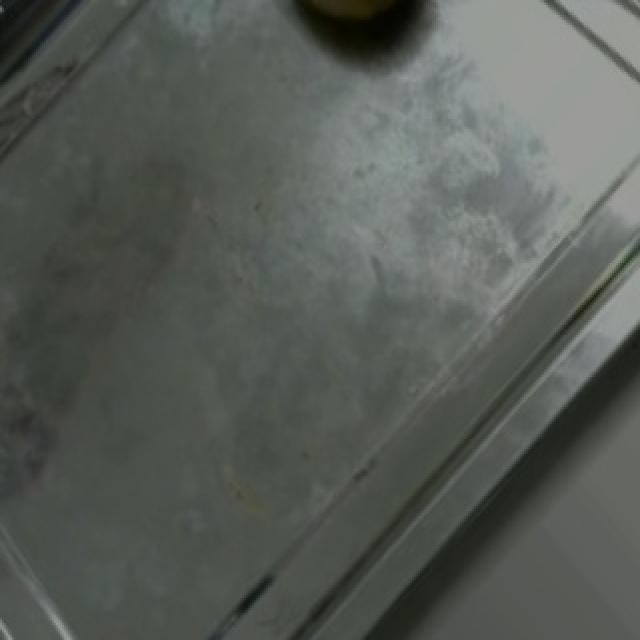Fruit: (248, 0, 464, 79)
